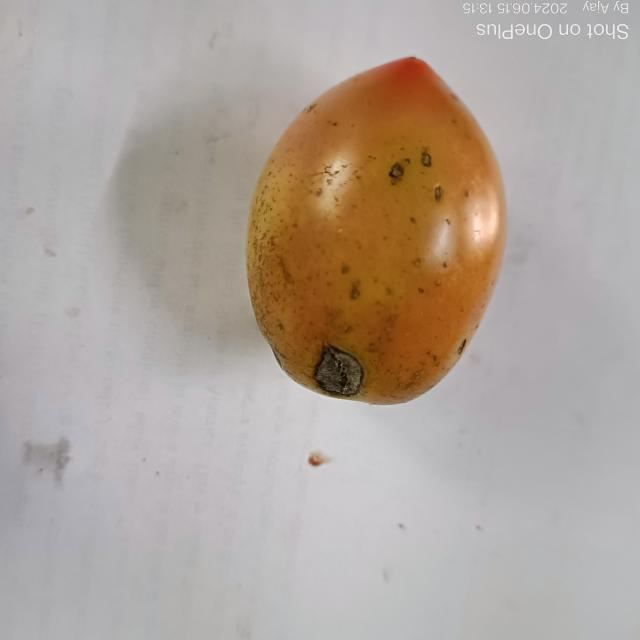Bacterial_Spot: (314, 348, 364, 396), (415, 144, 437, 174), (380, 166, 408, 183)
